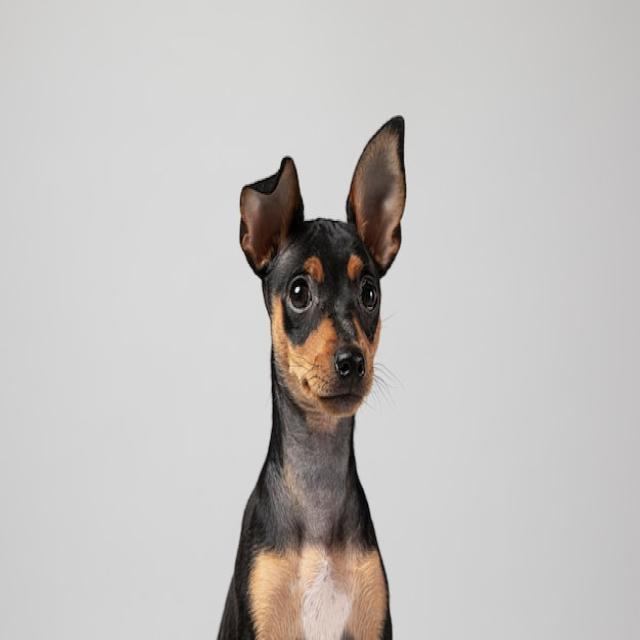Dog: (219, 115, 406, 640)
